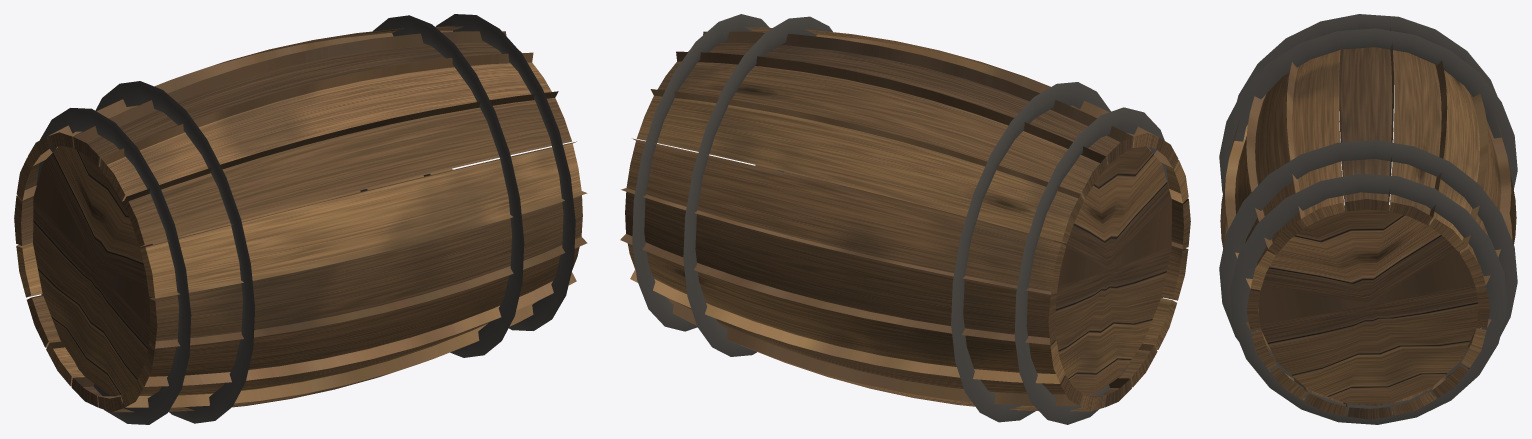
File: barrel.glb
3 views of the same model, side by side, from view 1: azimuth 30°, elevation 25°; view 2: azimuth 150°, elevation 25°; view 3: azimuth 270°, elevation 25° (orthographic). The views are drawn at different scales.
Visible parts, largest first — view 1: barrel; view 2: barrel; view 3: barrel.
Part boxes in pixels (x1,y1,x2,y2): barrel: (14, 14, 587, 424); barrel: (620, 14, 1190, 424); barrel: (1219, 14, 1517, 424).
Size of the model in its own units: 0.9 by 0.6325 by 0.6325.
2 materials, 1 textured.
